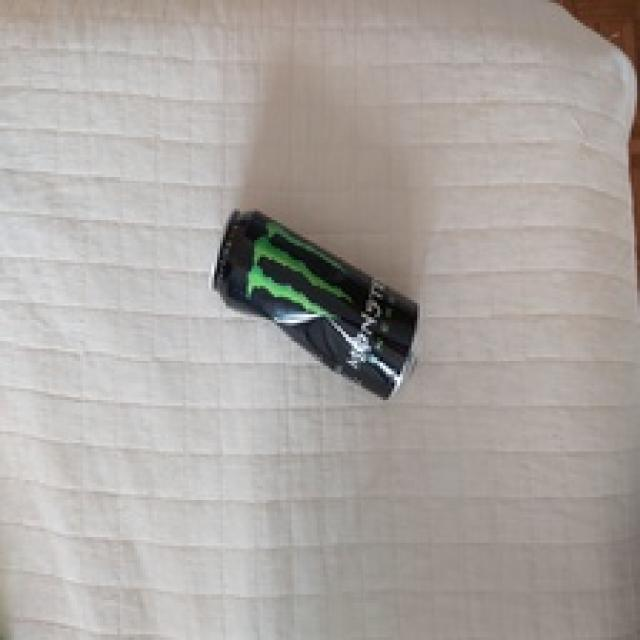recyclable: (212, 203, 422, 400)
